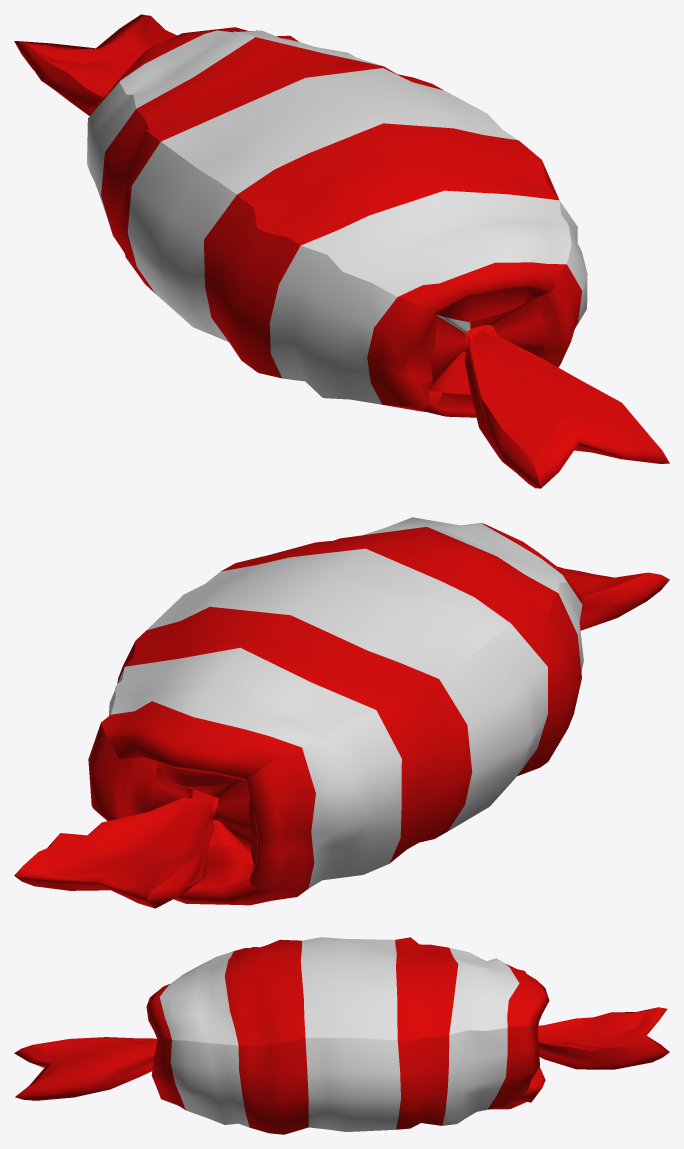
File: candy.fbx
3 renders of one model, top to bottom at view 1: azimuth 30°, elevation 25°; view 2: azimuth 150°, elevation 25°; view 3: azimuth 270°, elevation 25°, orthographic. The views are drawn at different scales.
Visible parts, largest first — view 1: Candy; view 2: Candy; view 3: Candy.
Boxes of the visible parts, left/top/right/bottom form: Candy: left=14, top=14, right=669, bottom=488; Candy: left=14, top=517, right=669, bottom=908; Candy: left=14, top=937, right=669, bottom=1134.
Bounding box in the file's own units: 1.66 × 0.9508 × 4.09.
